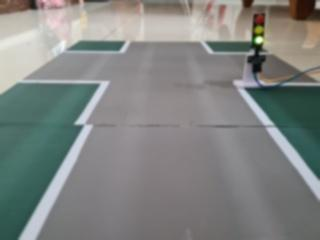green: (241, 8, 277, 50)
